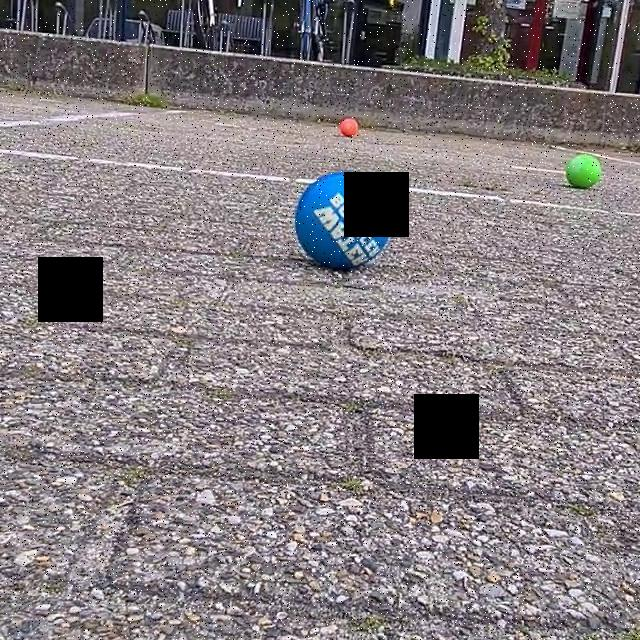ball: (562, 152, 604, 193), (336, 114, 359, 140)
